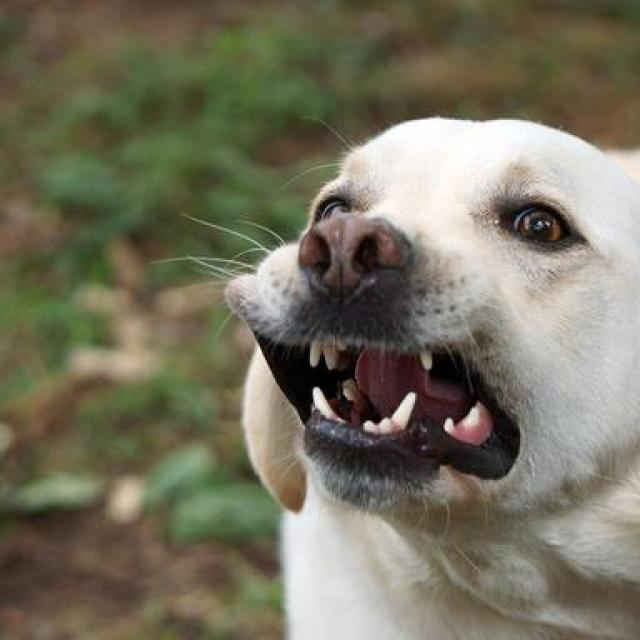angry: (218, 59, 640, 624)
